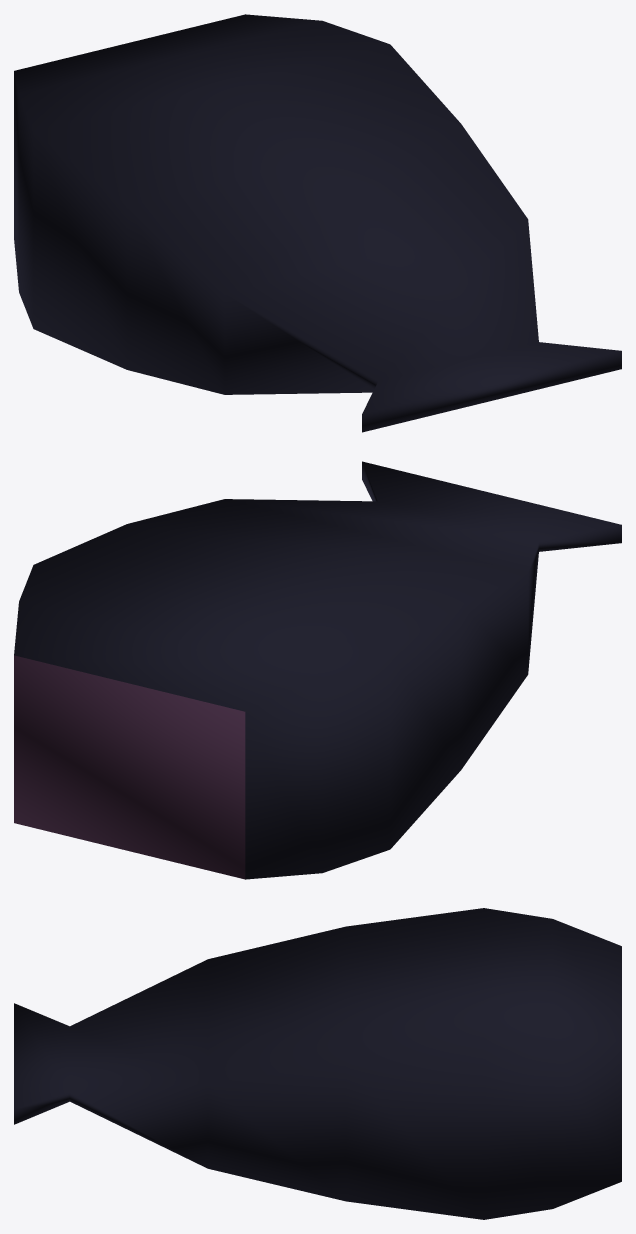
File: FishBurnt.glb
3 views of the same model, one above another, from view 1: azimuth 30°, elevation 25°; view 2: azimuth 150°, elevation 25°; view 3: azimuth 270°, elevation 25° (orthographic). The views are drawn at different scales.
Visible parts, largest first — view 1: Cube.137; view 2: Cube.137; view 3: Cube.137.
Boxes of the visible parts, x1,y1,x2,y2 form: Cube.137: [14, 14, 621, 432]; Cube.137: [14, 461, 621, 879]; Cube.137: [14, 908, 621, 1219].
Size of the model in its own units: 0.441 by 0.2333 by 0.7754.
